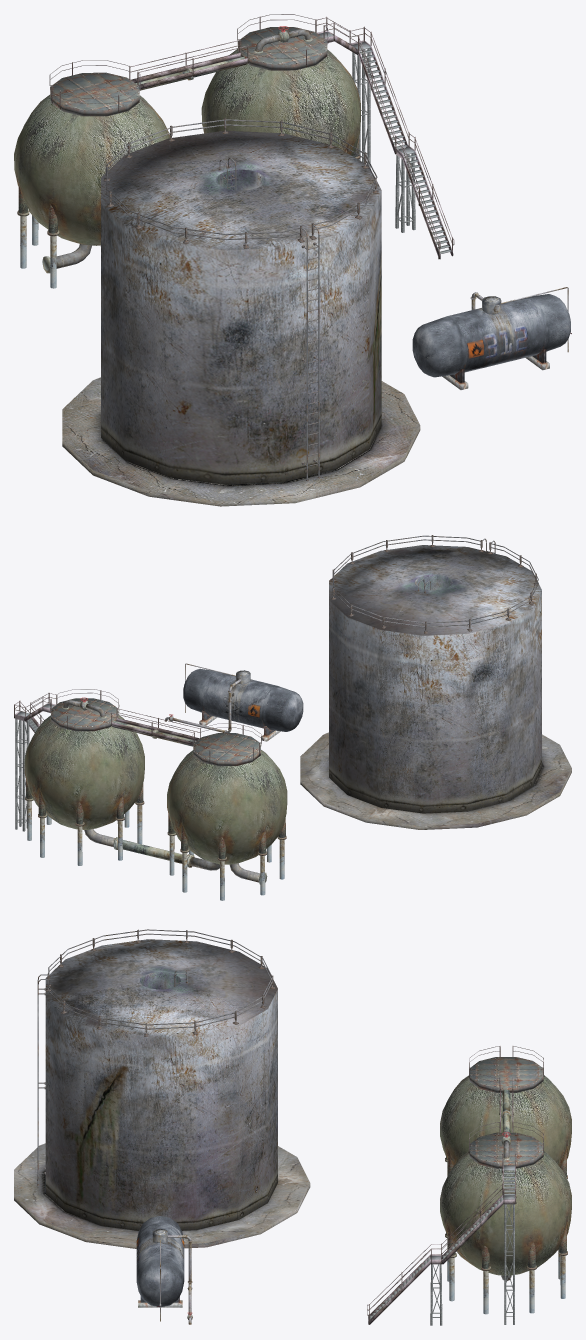
The model's file is large_industrial_storage_tanks (1).glb.
3 views of the same model, one above another, from view 1: azimuth 30°, elevation 25°; view 2: azimuth 150°, elevation 25°; view 3: azimuth 270°, elevation 25° (orthographic). The views are drawn at different scales.
Visible parts, largest first — view 1: pCylinder2, Round_TankB, Round_TankA, Long_Tank1:Long_TankA, StairA, StairB, polySurface496, Round_TankB_Legs, SupportA, SupportB, PipebendE; view 2: pCylinder2, Round_TankB, Round_TankA, Long_Tank1:Long_TankA, Round_TankB_Legs, Round_TankA_Legs, polySurface496, SupportB, SupportC, PipeA; view 3: pCylinder2, Round_TankA, Round_TankB, Long_Tank1:Long_TankA, Round_TankA_Legs, StairB, StairA.
Part boxes in pixels (x1,y1,x2,y2): pCylinder2: (62, 118, 420, 506); Round_TankB: (14, 72, 170, 245); Round_TankA: (201, 27, 360, 155); Long_Tank1:Long_TankA: (412, 294, 570, 389); StairA: (395, 132, 454, 259); StairB: (349, 26, 408, 153); polySurface496: (129, 40, 247, 89); Round_TankB_Legs: (17, 184, 59, 288); SupportA: (395, 153, 415, 232); SupportB: (352, 48, 370, 124); PipebendE: (42, 244, 91, 273); pCylinder2: (300, 535, 571, 829); Round_TankB: (167, 733, 287, 864); Round_TankA: (24, 698, 144, 829); Long_Tank1:Long_TankA: (183, 668, 303, 741); Round_TankB_Legs: (167, 814, 286, 900); Round_TankA_Legs: (25, 779, 144, 865); polySurface496: (111, 708, 200, 745); SupportB: (15, 719, 29, 775); SupportC: (15, 771, 27, 831); PipeA: (115, 837, 190, 863); pCylinder2: (14, 929, 310, 1248); Round_TankA: (440, 1132, 571, 1275); Round_TankB: (440, 1057, 571, 1167); Long_Tank1:Long_TankA: (136, 1216, 184, 1307); Round_TankA_Legs: (445, 1227, 567, 1314); StairB: (441, 1182, 516, 1264); StairA: (367, 1243, 441, 1324).
Size of the model in its own units: 28.42 by 14.38 by 33.45.
5 materials, 5 textured.
